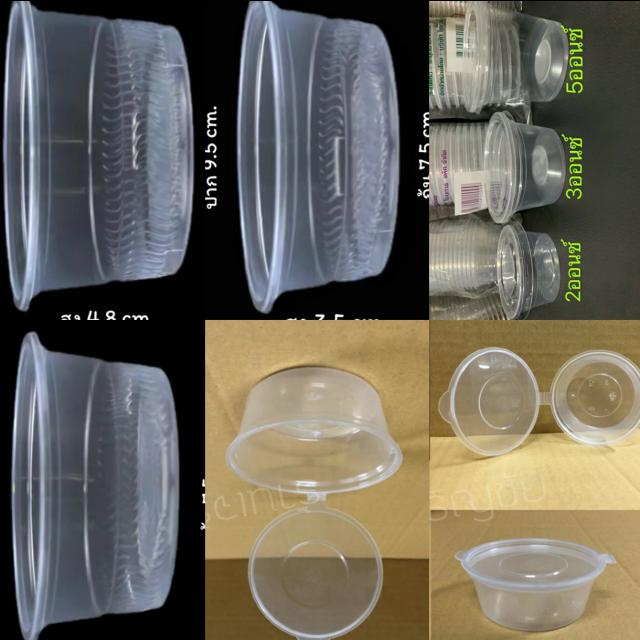plastik: (5, 0, 194, 310), (13, 332, 179, 640), (238, 0, 398, 312), (225, 366, 402, 640), (439, 346, 640, 455), (455, 537, 615, 630), (461, 0, 569, 111), (484, 111, 565, 223), (497, 222, 560, 319)
